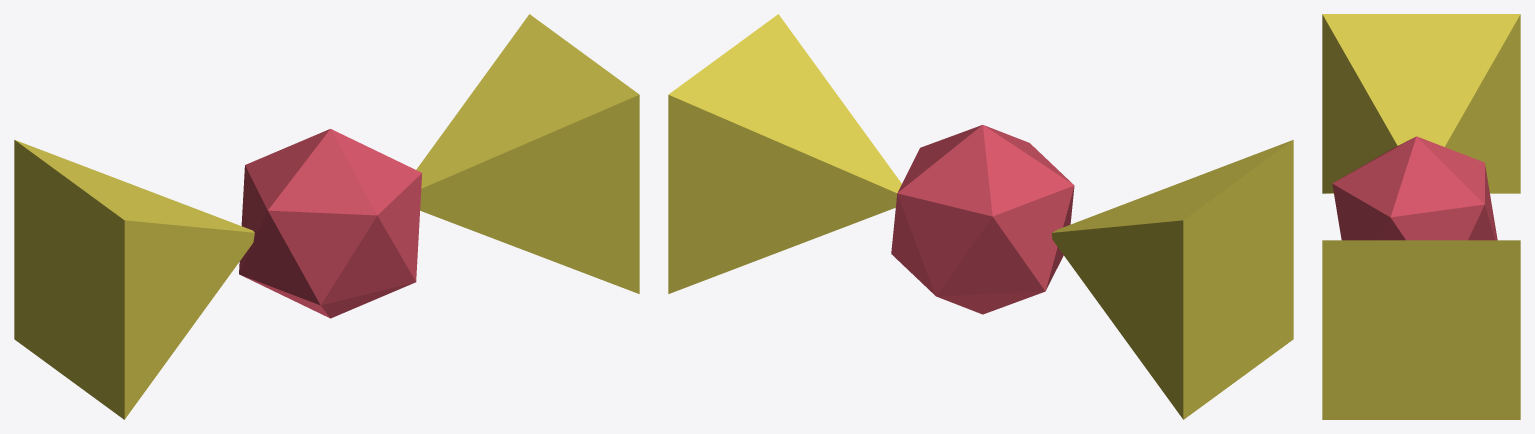
The model's file is candy.glb.
The picture shows the model from 3 angles, left to right: view 1: azimuth 30°, elevation 25°; view 2: azimuth 150°, elevation 25°; view 3: azimuth 270°, elevation 25°; orthographic projection. The views are drawn at different scales.
Parts seen in each view (by area): view 1: Mesh_Mesh_head_geo.001_lambert2SG.001; view 2: Mesh_Mesh_head_geo.001_lambert2SG.001; view 3: Mesh_Mesh_head_geo.001_lambert2SG.001.
Part boxes in pixels (x1,y1,x2,y2): Mesh_Mesh_head_geo.001_lambert2SG.001: [14, 14, 639, 419]; Mesh_Mesh_head_geo.001_lambert2SG.001: [668, 14, 1293, 419]; Mesh_Mesh_head_geo.001_lambert2SG.001: [1322, 14, 1520, 419].
Bounding box in the file's own units: 54 × 20 × 20.
